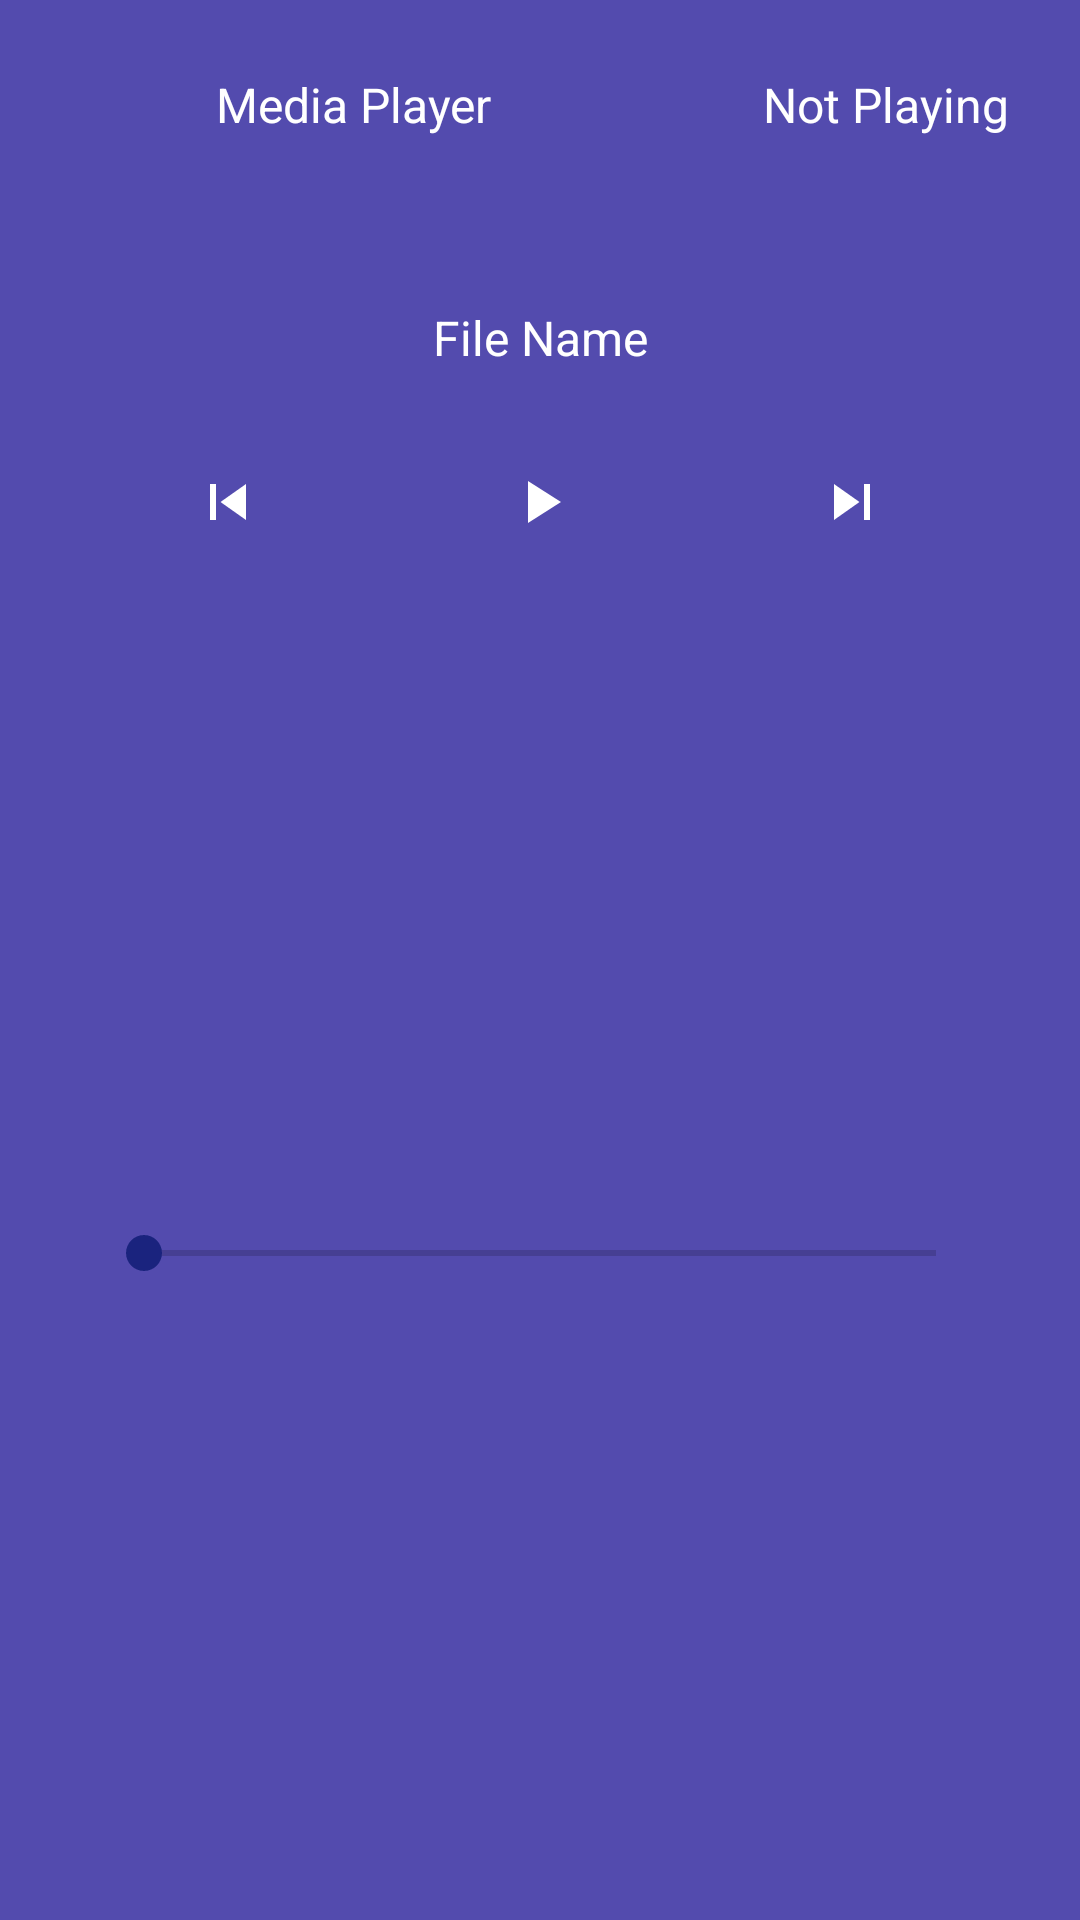

Point at icon controls on the screen. Image size 1080w x 1920h, points as point (x, y).
record next: point (852, 502)
record play: point (544, 502)
record previous: point (228, 502)
